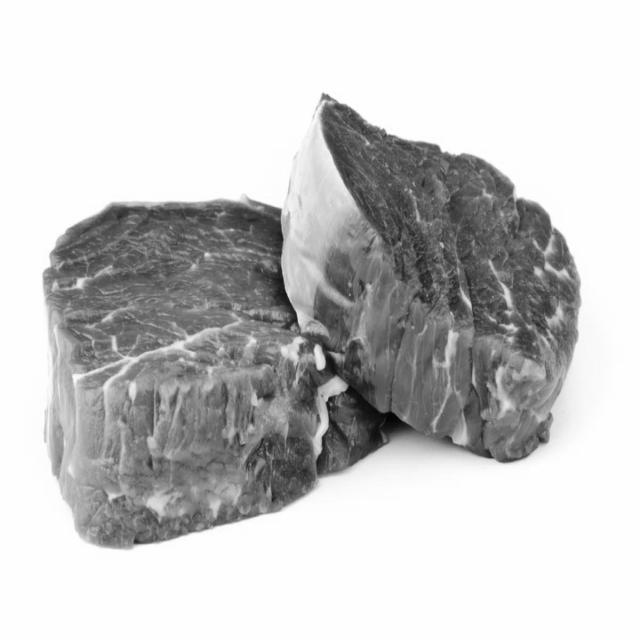than bit tet: (41, 178, 349, 544), (286, 76, 574, 459)
